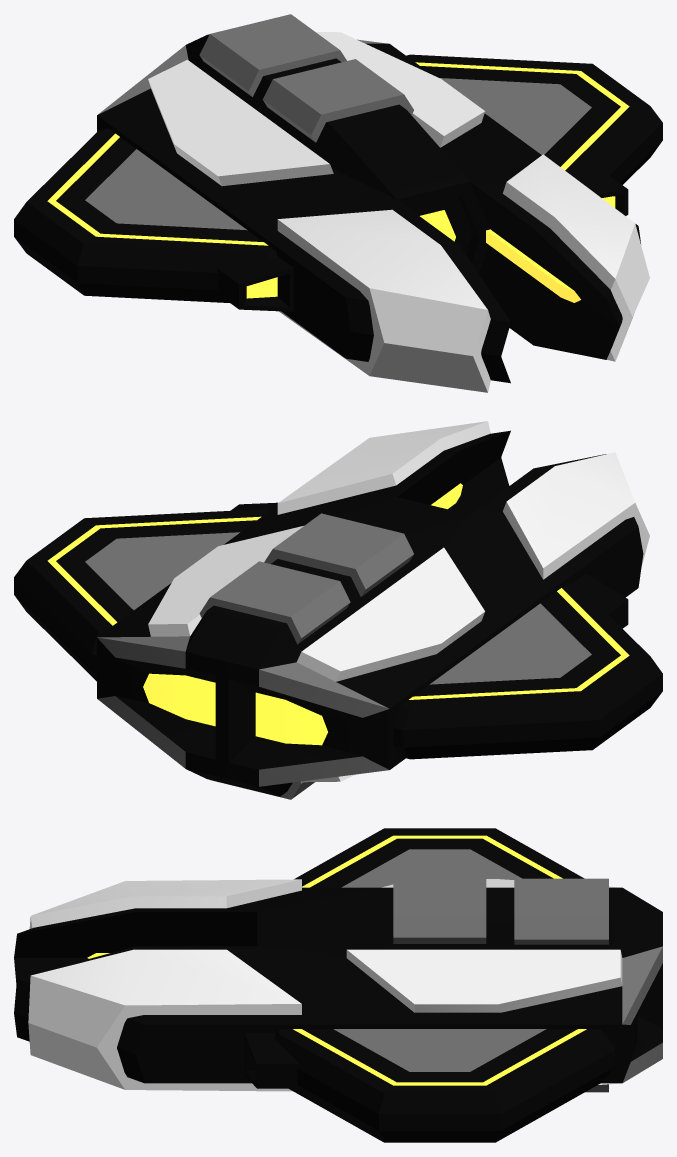
File: 01_ship_light_faus.glb
The picture shows the model from 3 angles, top to bottom: view 1: azimuth 30°, elevation 25°; view 2: azimuth 150°, elevation 25°; view 3: azimuth 270°, elevation 25°; orthographic projection. The views are drawn at different scales.
Parts seen in each view (by area): view 1: 01_ship_light_faus; view 2: 01_ship_light_faus; view 3: 01_ship_light_faus.
Part boxes in pixels (x1,y1,x2,y2): 01_ship_light_faus: (14, 14, 662, 392); 01_ship_light_faus: (14, 421, 662, 799); 01_ship_light_faus: (14, 828, 662, 1142).
Bounding box in the file's own units: 1 × 0.3034 × 1.
